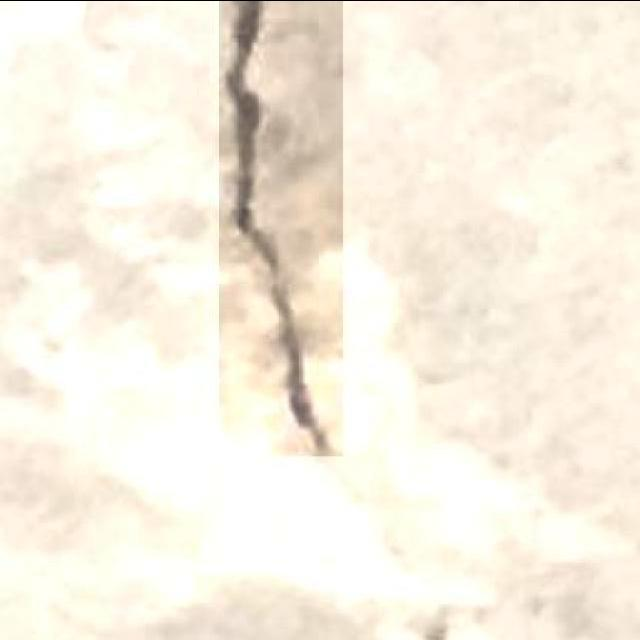SurfaceCrack: (204, 0, 348, 454)
